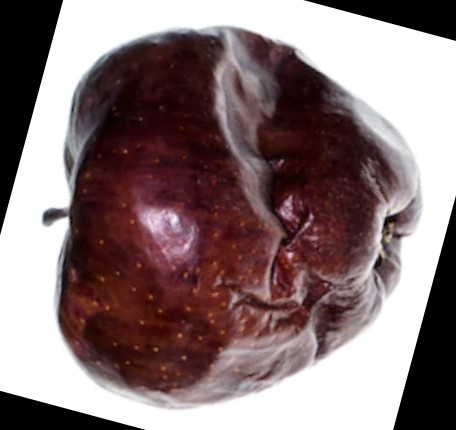rotten_apple: (55, 24, 423, 409)
